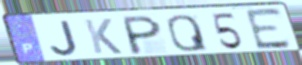5: (209, 11, 245, 50)
E: (243, 6, 294, 52)
J: (48, 19, 80, 58)
K: (82, 18, 124, 55)
P: (123, 14, 164, 56)
Q: (165, 13, 211, 53)
